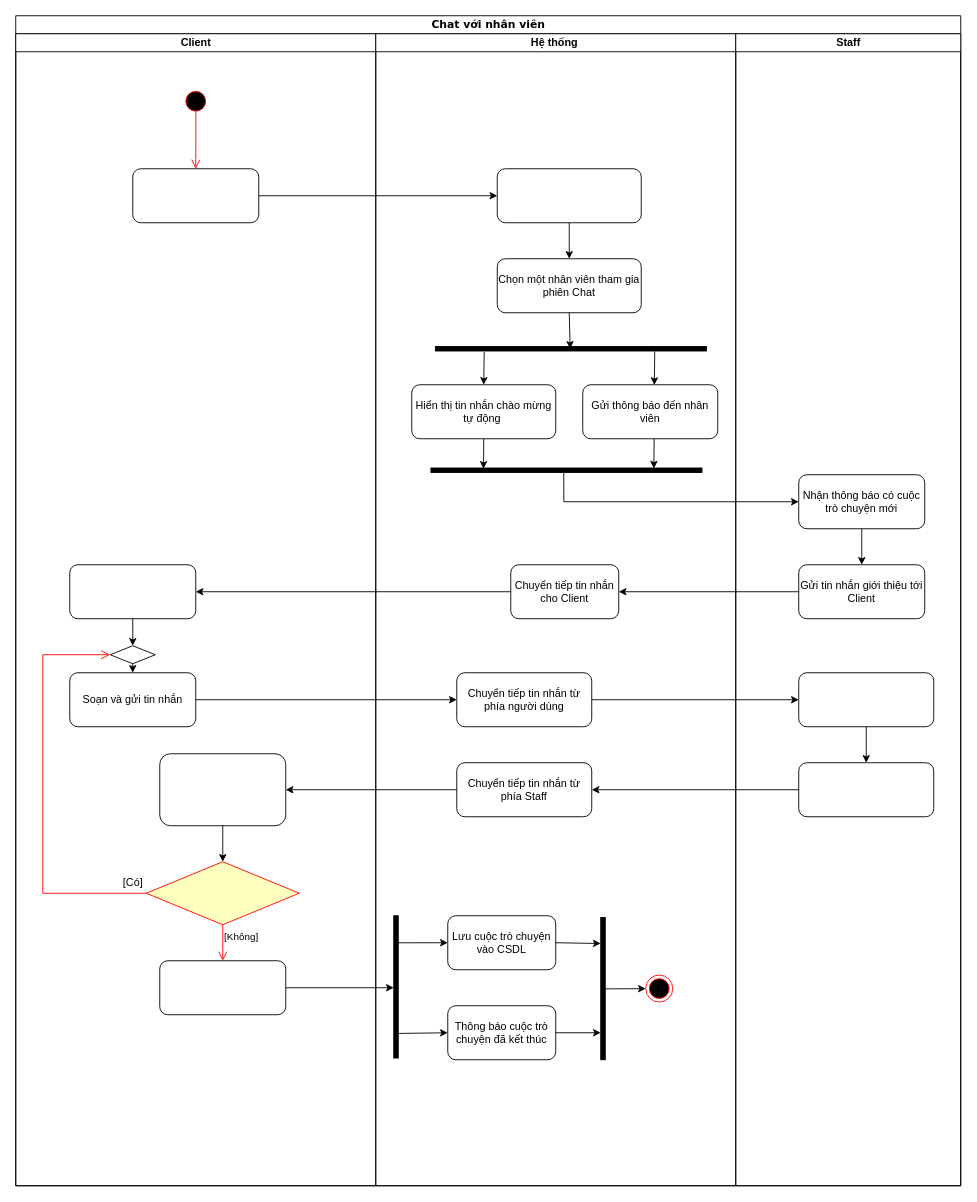
Some shapes in this 977 by 1202 pixel diagram are drawn without their labels. The centre of each missing label's shape, as x and y in pixels:
Chọn kết thúc cuộc trò chuyện: (222,987)
Chọn nút "Chat with Staff": (195,195)
Khởi tạo phiên chat mới: (568,195)
Nhận thông báo có tin nhắn mới từ khách hàng: (866,699)
Soạn và gửi phản hồi: (866,789)
Tiếp nhận nội dung tin nhắn: (222,789)
Tiếp nhận tin nhắn từ nhân viên: (132,591)
Tiếp tục cuộc trò chuyện?: (222,893)
